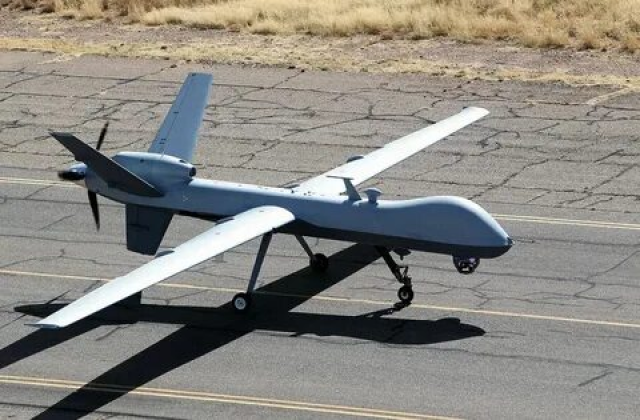military drone: (23, 71, 514, 329)
